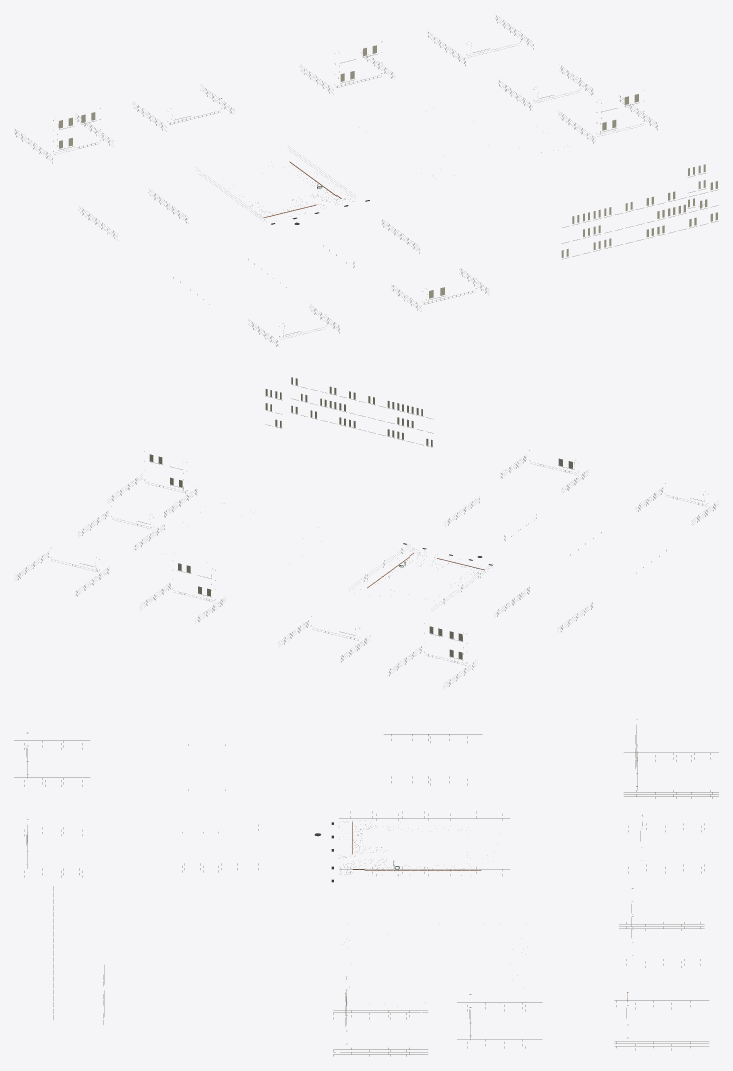
File: surface-v11-lite.glb
3 renders of one model, top to bottom at view 1: azimuth 30°, elevation 25°; view 2: azimuth 150°, elevation 25°; view 3: azimuth 270°, elevation 25°, orthographic. The views are drawn at different scales.
Parts seen in each view (by area): view 1: neighborhood_detail cell 0,1, neighborhood_detail cell 1,1; view 2: neighborhood_detail cell 0,1; view 3: surface_detail, neighborhood_detail cell -2,-2.
Boxes of the visible parts, x1,y1,x2,y2 form: neighborhood_detail cell 0,1: [561, 192, 671, 259]; neighborhood_detail cell 1,1: [672, 164, 718, 232]; neighborhood_detail cell 0,1: [333, 387, 433, 447]; surface_detail: [314, 811, 509, 882]; neighborhood_detail cell -2,-2: [624, 719, 718, 798].
Size of the model in its own units: 77.86 by 6.41 by 74.
16 materials, 3 textured.
